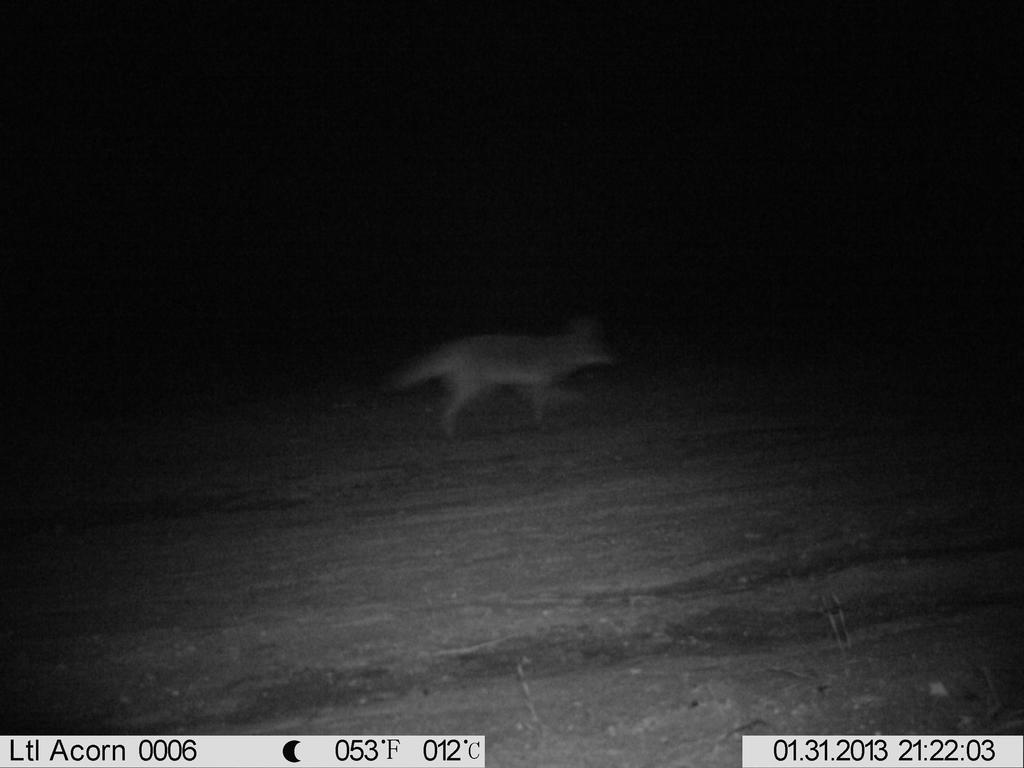coyote: (357, 310, 623, 442)
